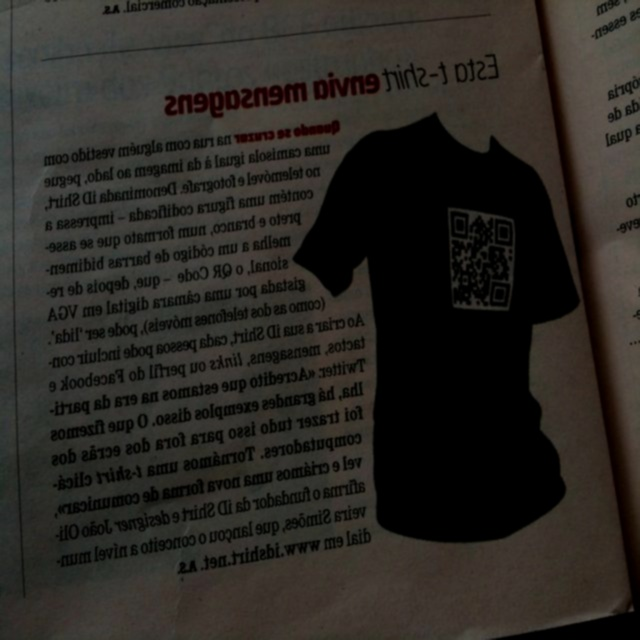qr-code: (452, 212, 512, 306)
